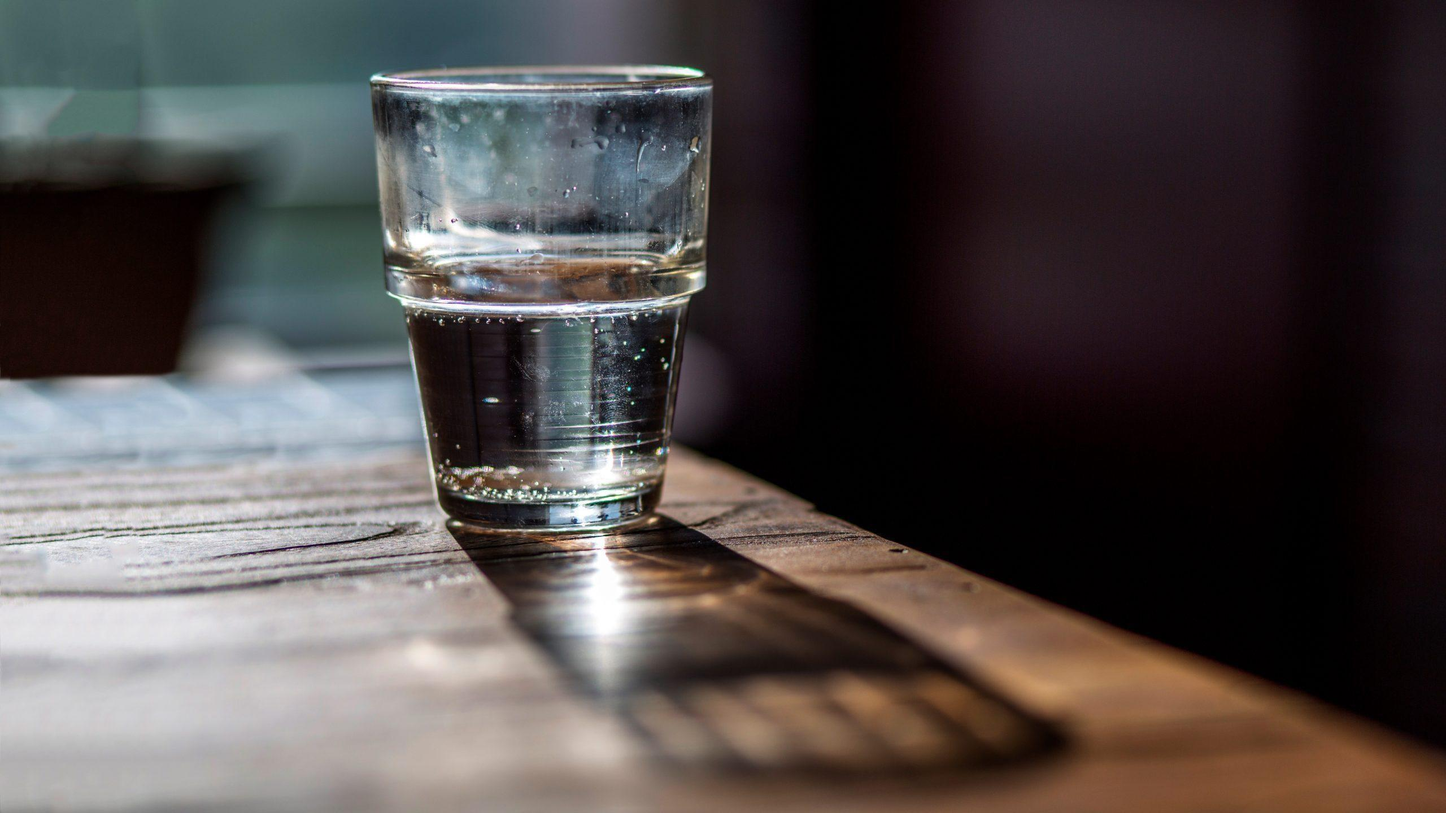glass-normal: (363, 60, 713, 552)
